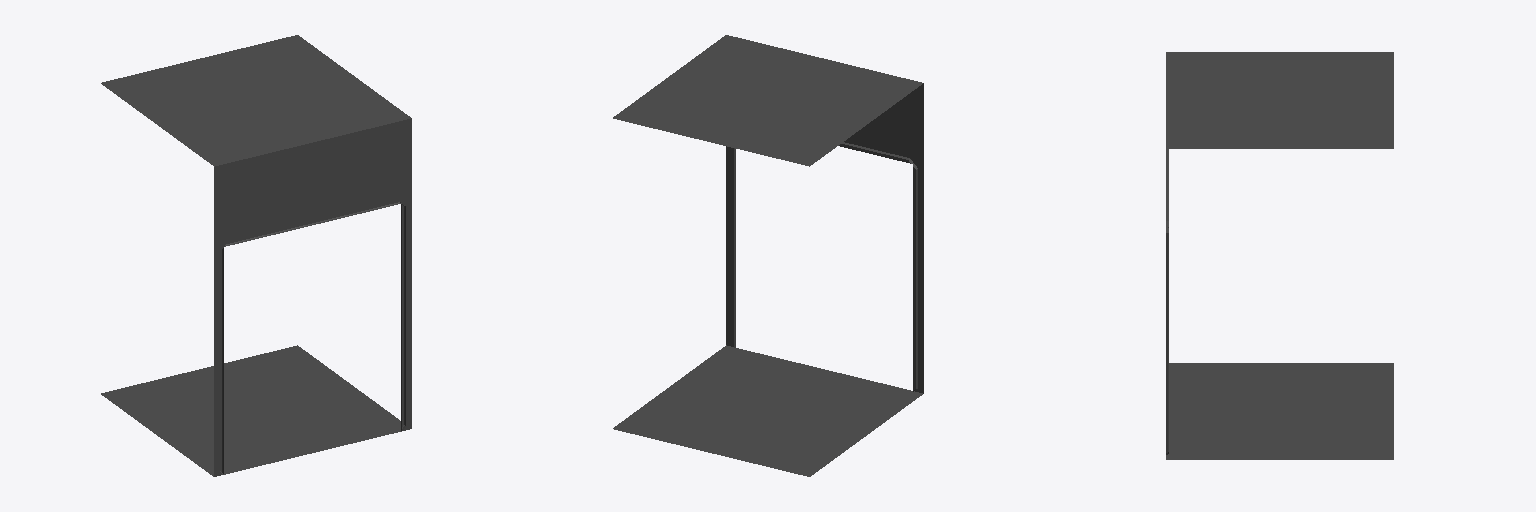
Rendered from NewModularWallDoubleDoor.obj.
The picture shows the model from 3 angles: view 1: azimuth 30°, elevation 25°; view 2: azimuth 150°, elevation 25°; view 3: azimuth 270°, elevation 25°; orthographic projection.
Visible parts, largest first — view 1: UCX_ModularWallDoubleDoor_02, UCX_ModularWallDoubleDoor_01, UCX_ModularWallDoubleDoor_00; view 2: UCX_ModularWallDoubleDoor_02, UCX_ModularWallDoubleDoor_00, UCX_ModularWallDoubleDoor_01; view 3: UCX_ModularWallDoubleDoor_02, UCX_ModularWallDoubleDoor_00, UCX_ModularWallDoubleDoor_01.
Part boxes in pixels (bbox=[...]): UCX_ModularWallDoubleDoor_02: bbox=[101, 35, 410, 166]; UCX_ModularWallDoubleDoor_01: bbox=[214, 118, 411, 476]; UCX_ModularWallDoubleDoor_00: bbox=[101, 345, 401, 476]; UCX_ModularWallDoubleDoor_02: bbox=[613, 35, 922, 166]; UCX_ModularWallDoubleDoor_00: bbox=[613, 345, 922, 476]; UCX_ModularWallDoubleDoor_01: bbox=[726, 83, 923, 393]; UCX_ModularWallDoubleDoor_02: bbox=[1166, 52, 1393, 148]; UCX_ModularWallDoubleDoor_00: bbox=[1166, 363, 1393, 459]; UCX_ModularWallDoubleDoor_01: bbox=[1166, 149, 1168, 454].
Bounding box in the file's own units: 78.74 × 118 × 78.74.